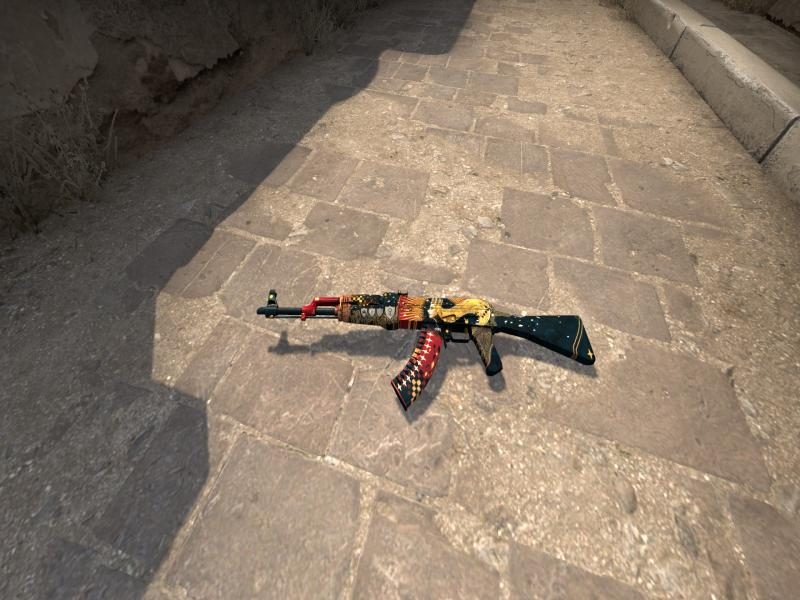AK47: (257, 289, 595, 409)
